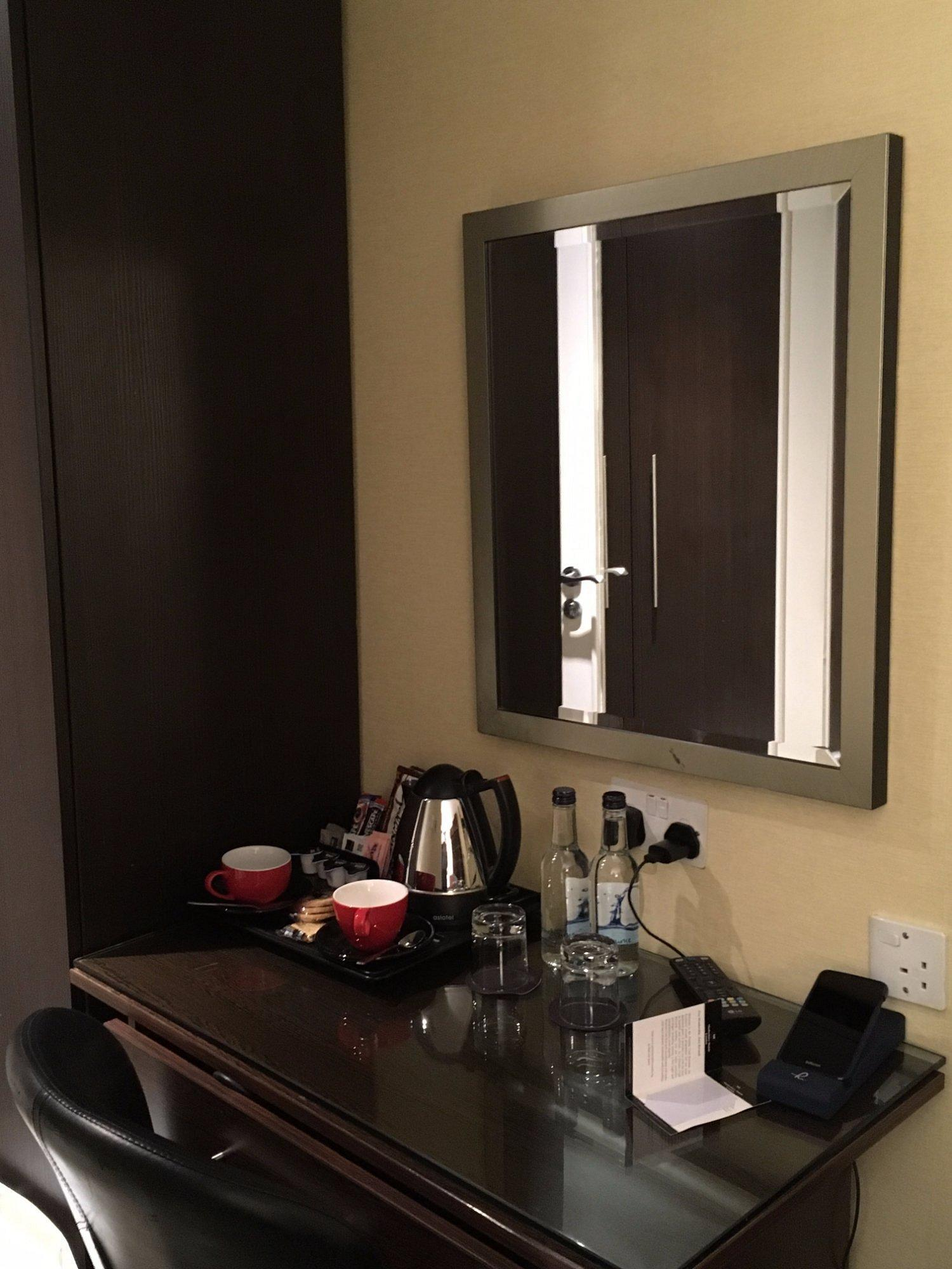chair: (19, 988, 387, 1269)
organized table: (83, 749, 903, 1269)
